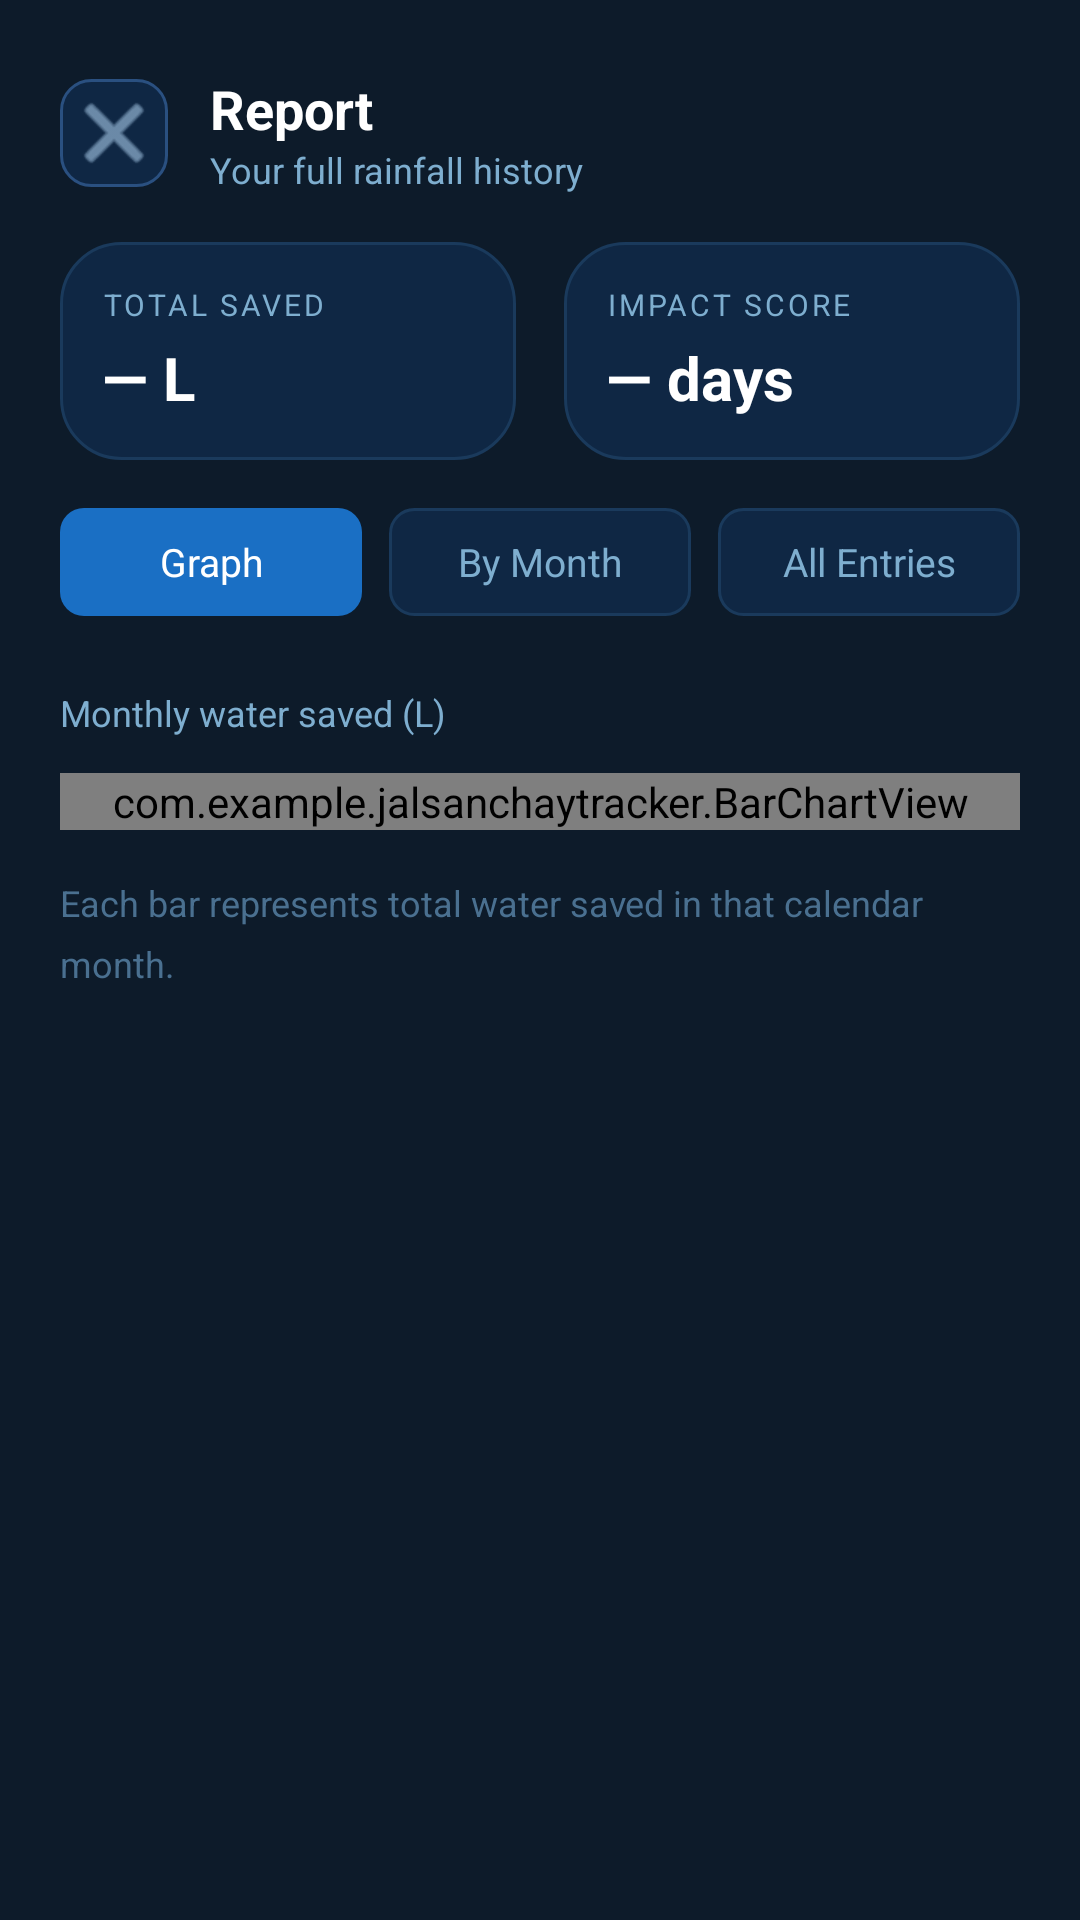

Icon bounding boxes for this 1080x1920 phone screenshot, format (x1=x1, y1=y1, x2=x2, y2=y2):
Back: (x1=60, y1=79, x2=168, y2=187)
